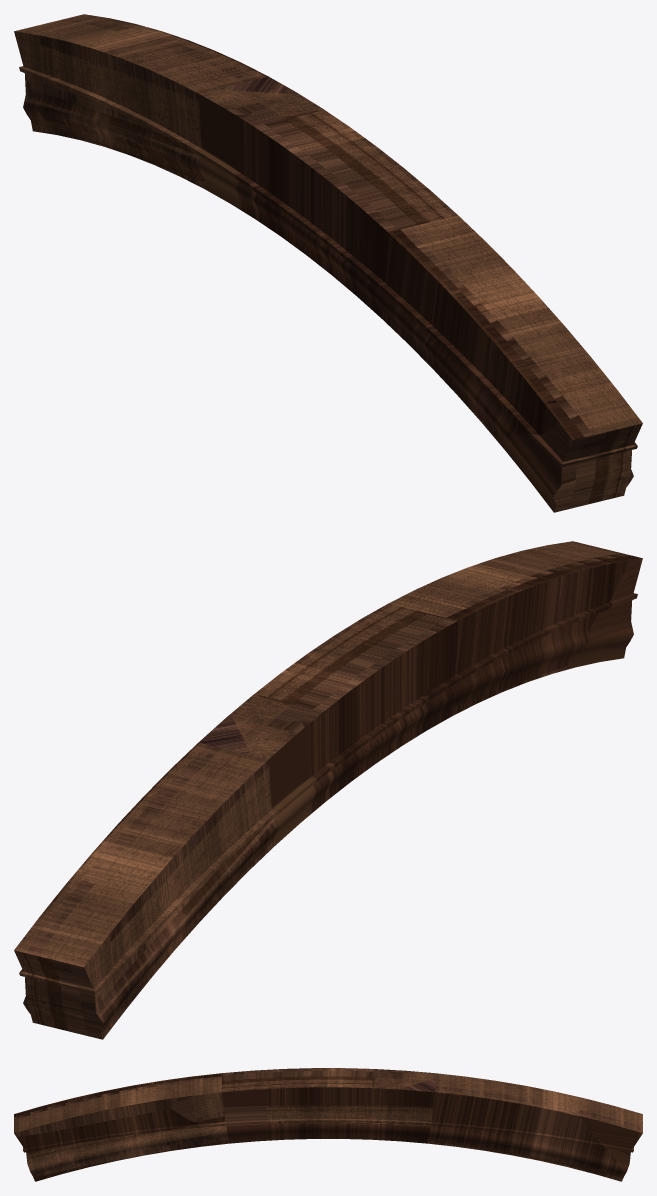
File: poutre.fbx
3 renders of one model, top to bottom at view 1: azimuth 30°, elevation 25°; view 2: azimuth 150°, elevation 25°; view 3: azimuth 270°, elevation 25°, orthographic. The views are drawn at different scales.
Visible parts, largest first — view 1: Mod_Ceiling_A_Low; view 2: Mod_Ceiling_A_Low; view 3: Mod_Ceiling_A_Low.
Part boxes in pixels (left/top/right/bottom): Mod_Ceiling_A_Low: left=14, top=14, right=642, bottom=512; Mod_Ceiling_A_Low: left=14, top=541, right=642, bottom=1039; Mod_Ceiling_A_Low: left=14, top=1068, right=642, bottom=1181.
Size of the model in its own units: 280 by 549 by 3314.
1 material, 1 textured.
